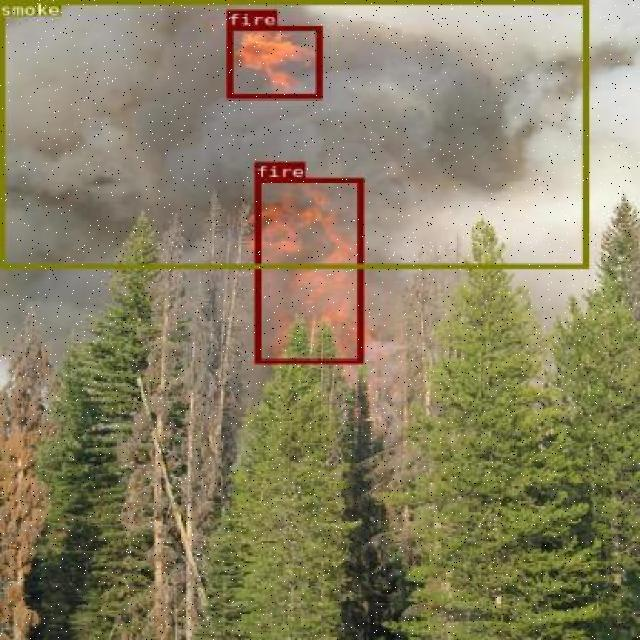Smoke: (0, 0, 586, 204)
